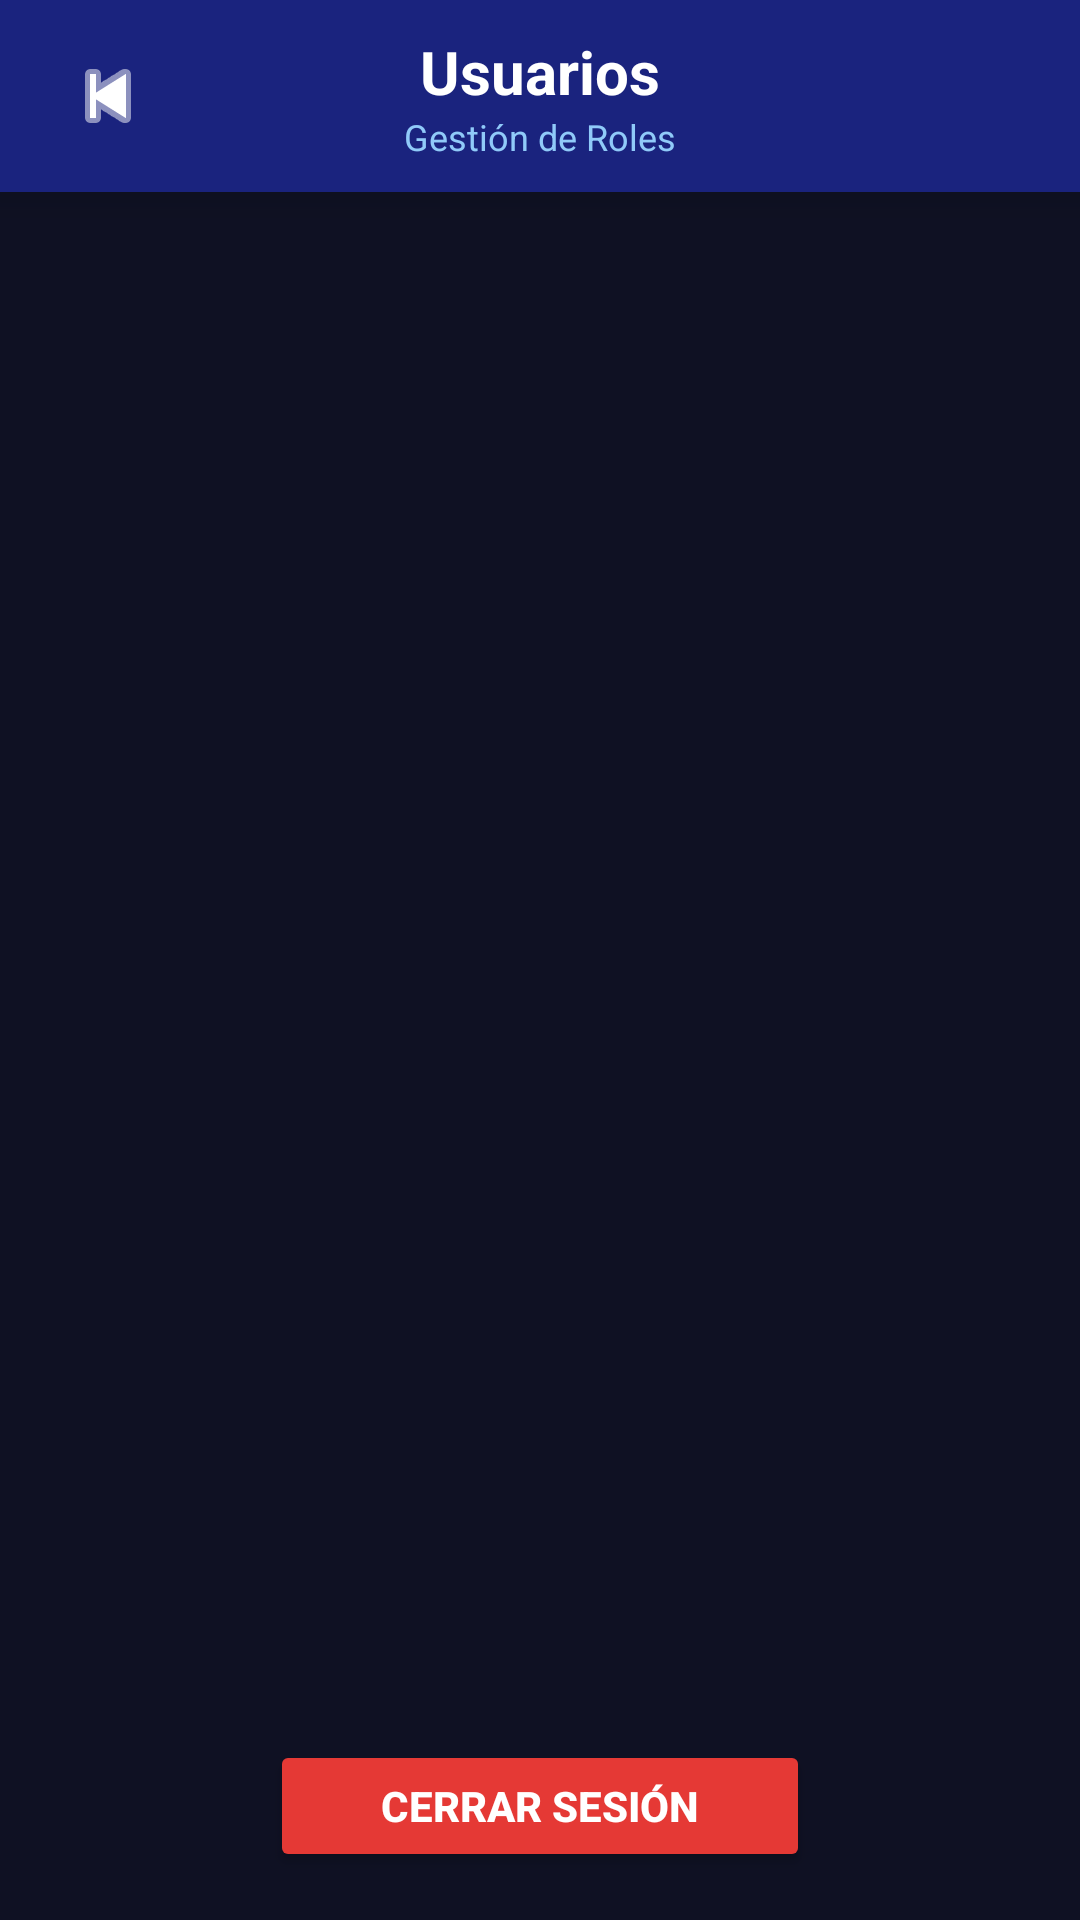

Locate icon controls on the screen. Image size 1080x1920, boxes as (x1, y1, x2, y2).
Regresar: (85, 69, 131, 123)
